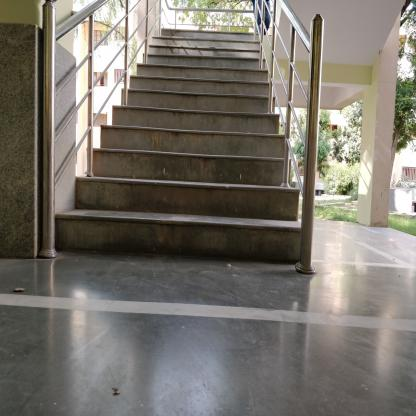stairs: (163, 31, 252, 267)
